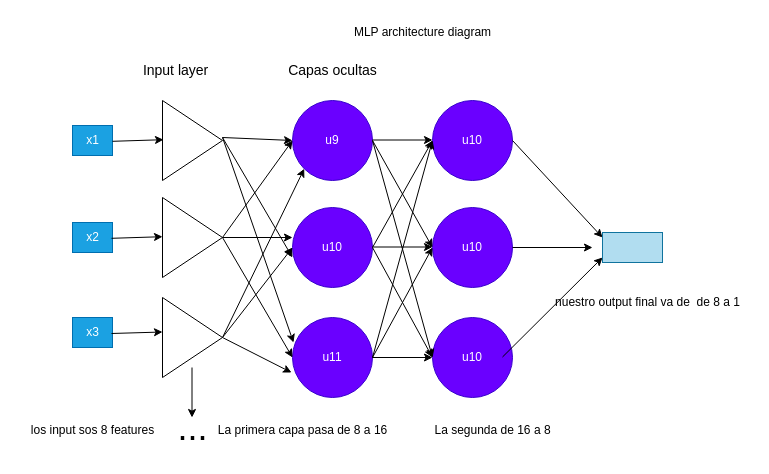
This 769x474 diagram has some shape labels left out. The shapes that lost their labels are listed below. From the top down, each one's centre as x and y in pixels, then its label:
At point (192, 140): "u1".
At point (192, 237): "u2".
At point (632, 247): "Output".
At point (192, 337): "u3".
